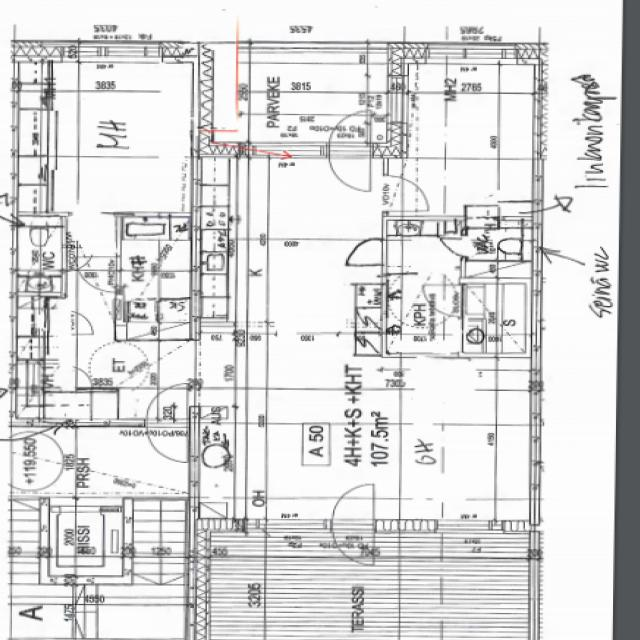door: (330, 142, 370, 194), (332, 520, 374, 569), (332, 484, 374, 532), (330, 108, 370, 158), (382, 176, 430, 212), (147, 384, 188, 426), (147, 419, 188, 461), (75, 256, 121, 292), (422, 284, 466, 316), (351, 240, 388, 266), (60, 247, 94, 271), (436, 238, 465, 258)
